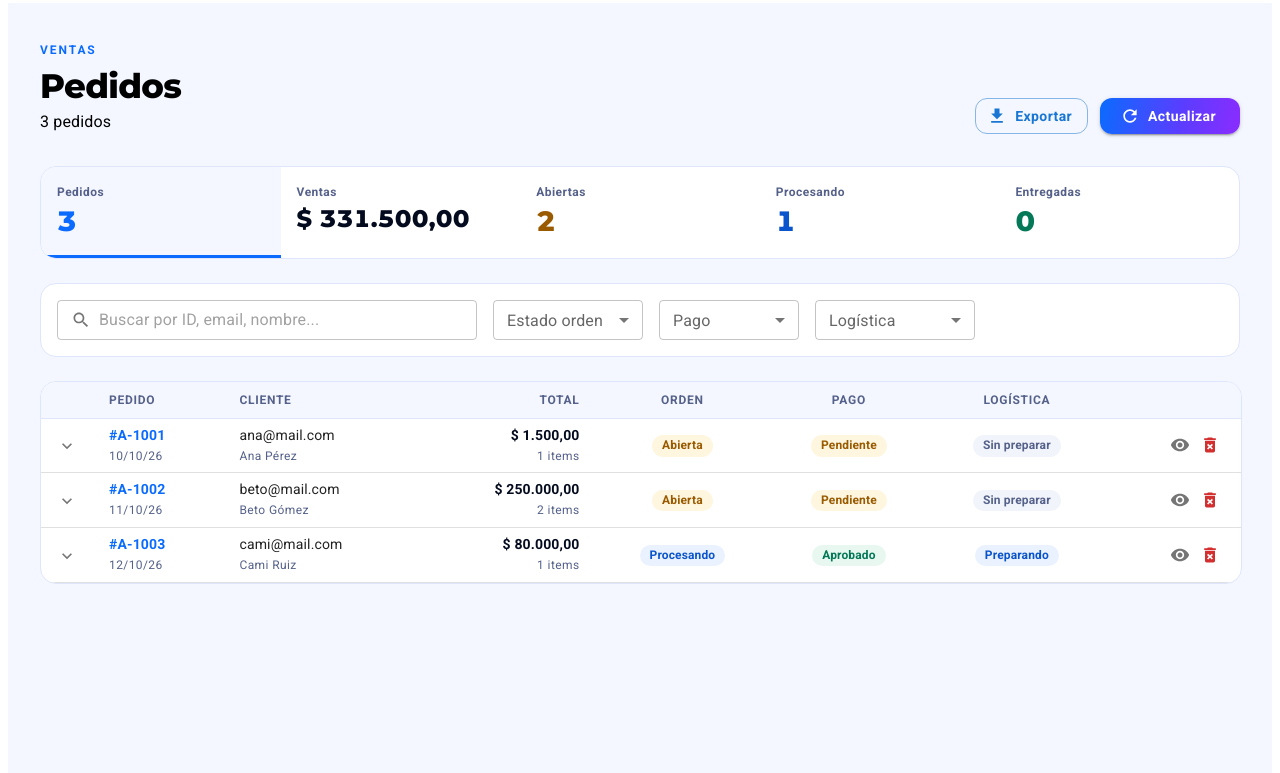
Test: Pedidos · detalle de un pedido › tocar de nuevo la fila la cierra, y abrir otra cierra la anterior
Click the text "#A-1001".
click(137, 434)  # box 109,426 -> 165,442
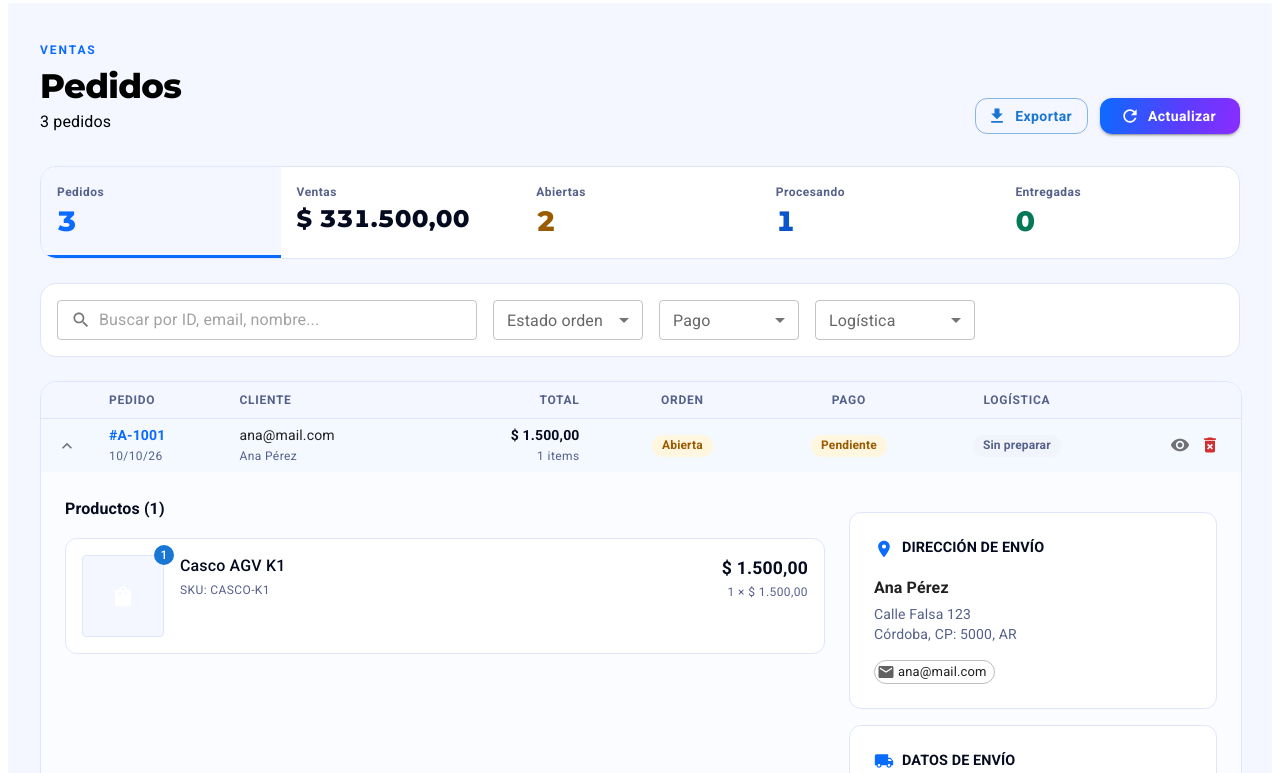
Check: the text "Casco AGV K1" is shown, box 180,556 -> 285,575
Click the text "#A-1001".
click(137, 434)  # box 109,426 -> 165,442
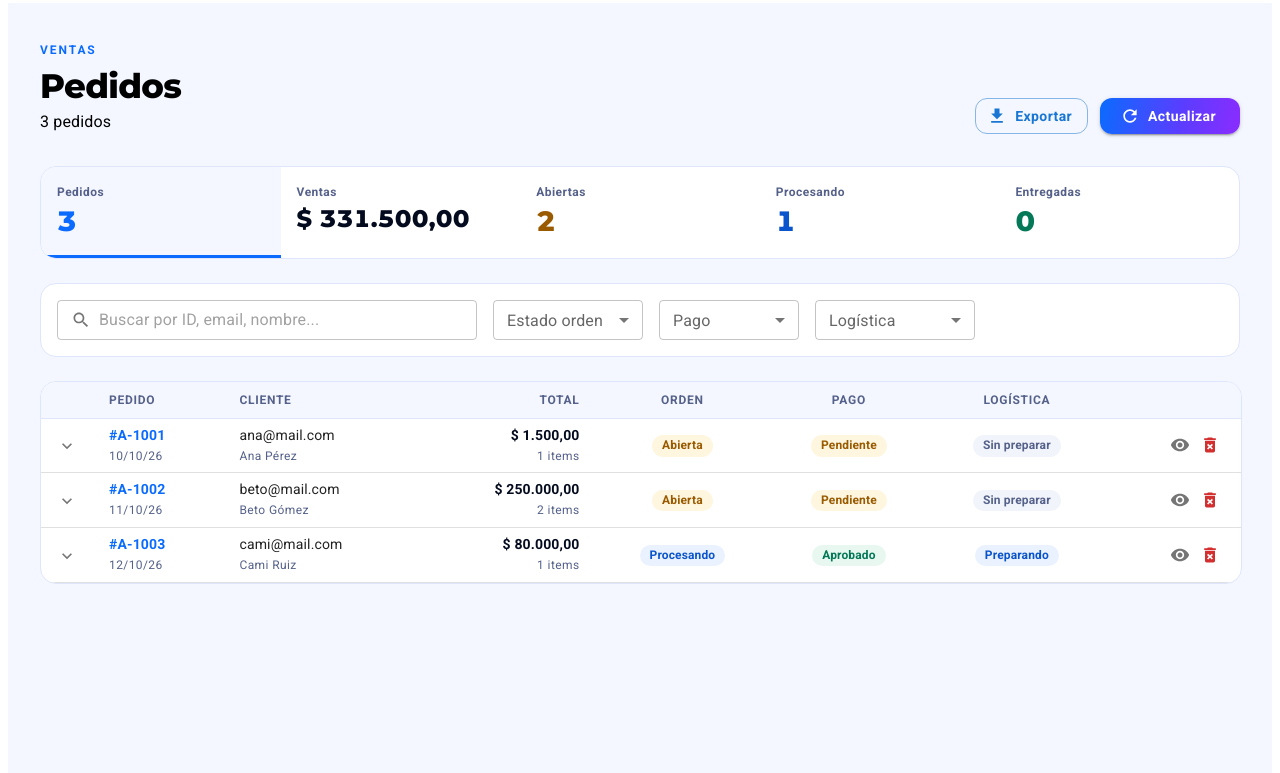
Check: the text "Casco AGV K1" is gone
Click the text "#A-1001".
click(137, 434)  # box 109,426 -> 165,442
(page scrolled)
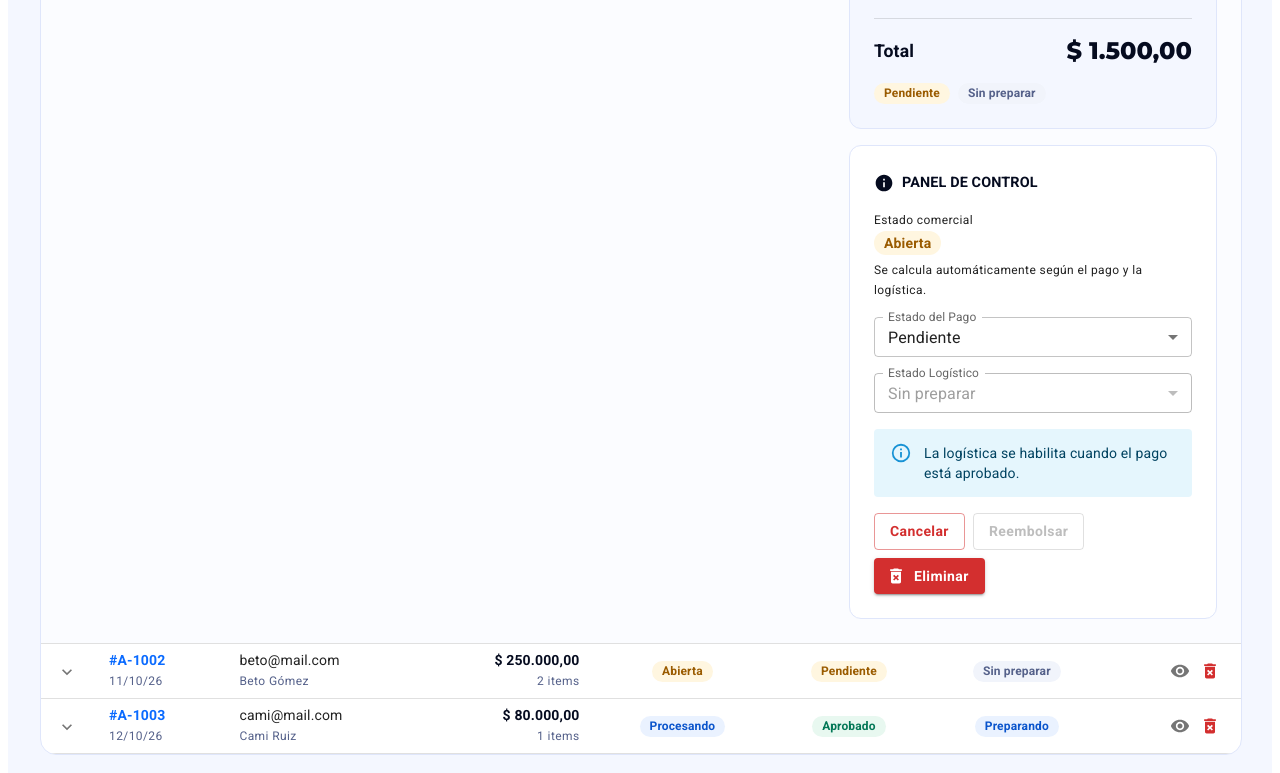
Click the text "#A-1003".
click(137, 715)  # box 109,707 -> 165,723
(page scrolled)
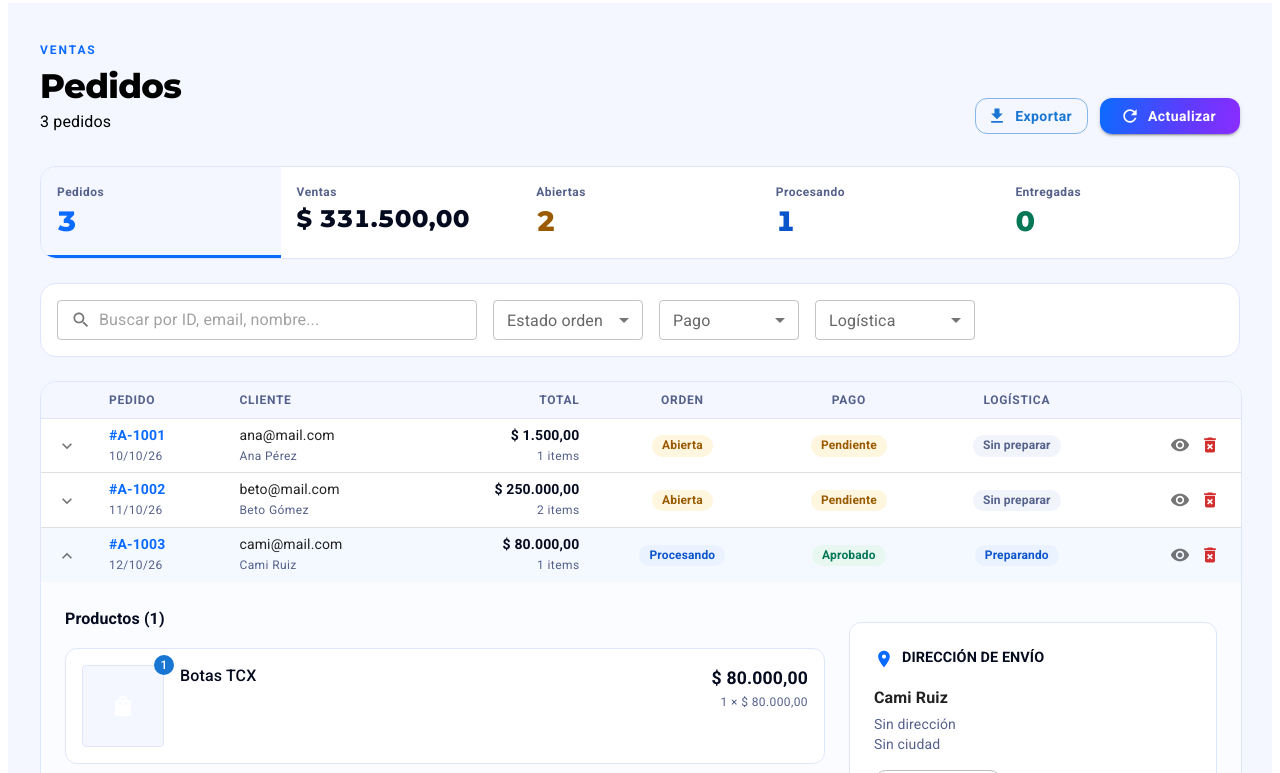
Check: the text "Botas TCX" is shown, box 180,666 -> 256,685
